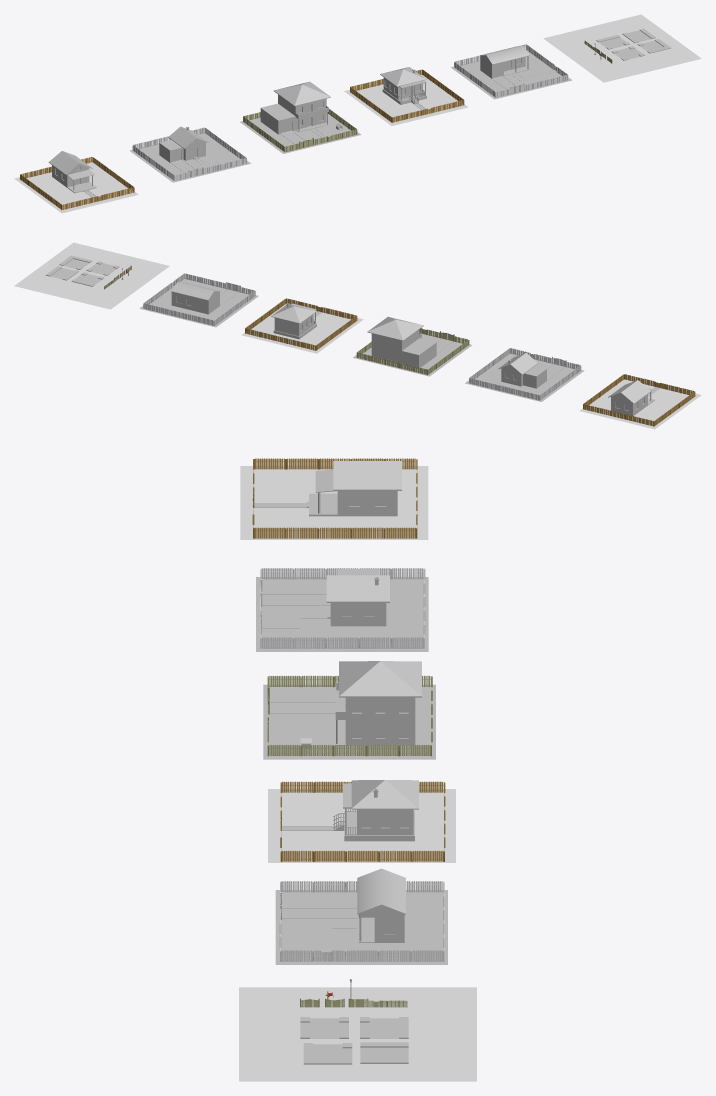
Rendered from city houses pack.FBX.
The picture shows the model from 3 angles, top to bottom: view 1: azimuth 30°, elevation 25°; view 2: azimuth 150°, elevation 25°; view 3: azimuth 270°, elevation 25°; orthographic projection. The views are drawn at different scales.
Parts seen in each view (by area): view 1: Plane001, house010, grass3, grass004, Plane026, Plane021, house008, house007, house006, house009, Plane028, redy fence001 (+4 smaller); view 2: Plane001, house010, grass3, grass004, Plane021, Plane026, redy fence001, redy fence002, house008, redy fence003, house009, house006 (+4 smaller); view 3: Plane001, grass004, grass3, Plane026, Plane021, house010, Plane028, house007, house008, redy fence, house006, house009 (+8 smaller).
Boxes of the visible parts, bbox=[...] form: Plane001: bbox=[543, 14, 701, 82]; house010: bbox=[260, 81, 330, 134]; grass3: bbox=[14, 160, 138, 213]; grass004: bbox=[344, 72, 468, 125]; Plane026: bbox=[451, 50, 572, 99]; Plane021: bbox=[129, 132, 250, 182]; house008: bbox=[380, 67, 426, 104]; house007: bbox=[48, 151, 96, 193]; house006: bbox=[159, 126, 208, 162]; house009: bbox=[480, 46, 529, 78]; Plane028: bbox=[240, 113, 361, 153]; redy fence001: bbox=[20, 157, 134, 210]; Plane001: bbox=[14, 242, 169, 309]; house010: bbox=[367, 316, 436, 368]; grass3: bbox=[579, 377, 701, 429]; grass004: bbox=[241, 301, 363, 353]; Plane021: bbox=[465, 353, 584, 401]; Plane026: bbox=[139, 278, 258, 327]; redy fence001: bbox=[583, 374, 695, 426]; redy fence002: bbox=[245, 298, 357, 350]; house008: bbox=[271, 303, 316, 339]; redy fence003: bbox=[143, 273, 255, 325]; house009: bbox=[171, 282, 220, 314]; house006: bbox=[498, 353, 546, 388]; Plane001: bbox=[239, 987, 476, 1081]; grass004: bbox=[268, 789, 455, 862]; grass3: bbox=[240, 466, 428, 539]; Plane026: bbox=[275, 890, 447, 964]; Plane021: bbox=[256, 577, 428, 651]; house010: bbox=[335, 661, 421, 745]; Plane028: bbox=[263, 684, 435, 759]; house007: bbox=[306, 461, 401, 516]; house008: bbox=[333, 780, 418, 841]; redy fence: bbox=[260, 568, 425, 648]; house006: bbox=[326, 569, 389, 626]; house009: bbox=[357, 868, 405, 942].
Bounding box in the file's own units: 11417 × 624 × 1873.
